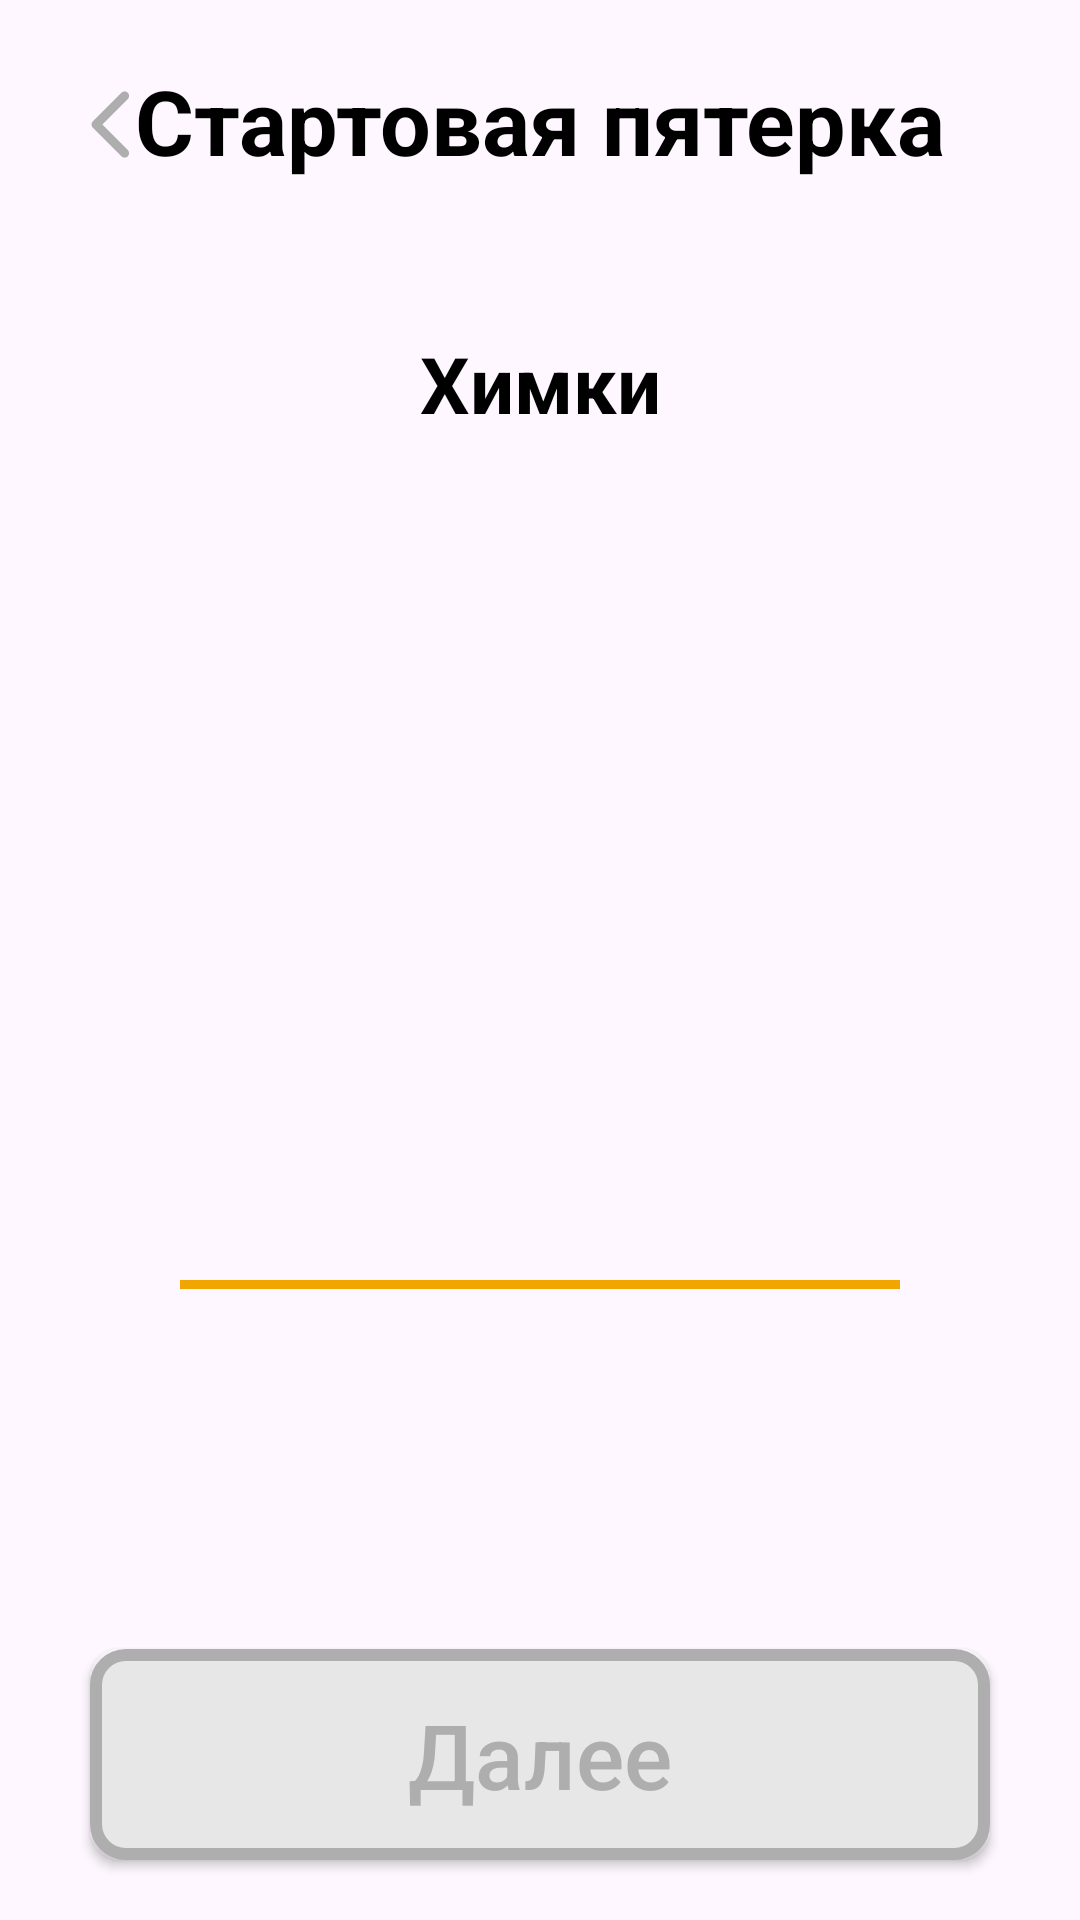

Icon click points for this 1080x1920 phone screenshot, format point (x, y):
go back: point (110, 124)
